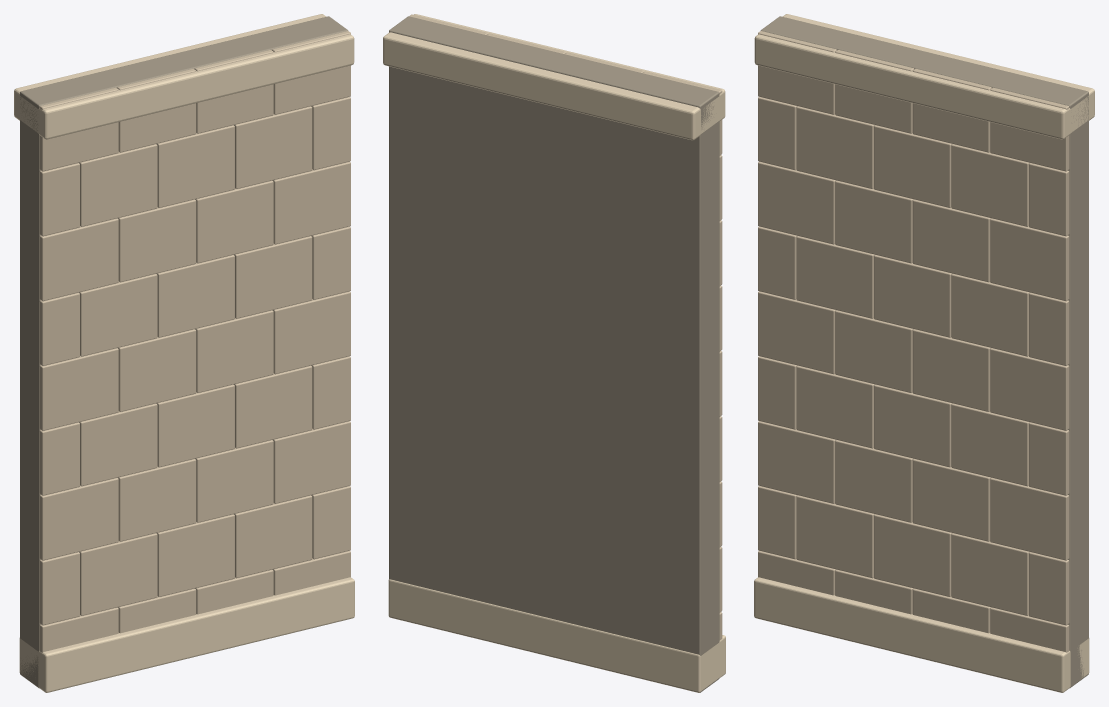
File: StoneWall_2m.fbx
3 renders of one model, left to right at view 1: azimuth 30°, elevation 25°; view 2: azimuth 150°, elevation 25°; view 3: azimuth 330°, elevation 25°, orthographic.
Parts seen in each view (by area): view 1: StoneWall_2m.001; view 2: StoneWall_2m.001; view 3: StoneWall_2m.001.
Part boxes in pixels (x1,y1,x2,y2): StoneWall_2m.001: (14, 14, 354, 692); StoneWall_2m.001: (383, 14, 725, 692); StoneWall_2m.001: (754, 14, 1094, 692).
Size of the model in its own units: 2 by 3.6 by 0.365.
